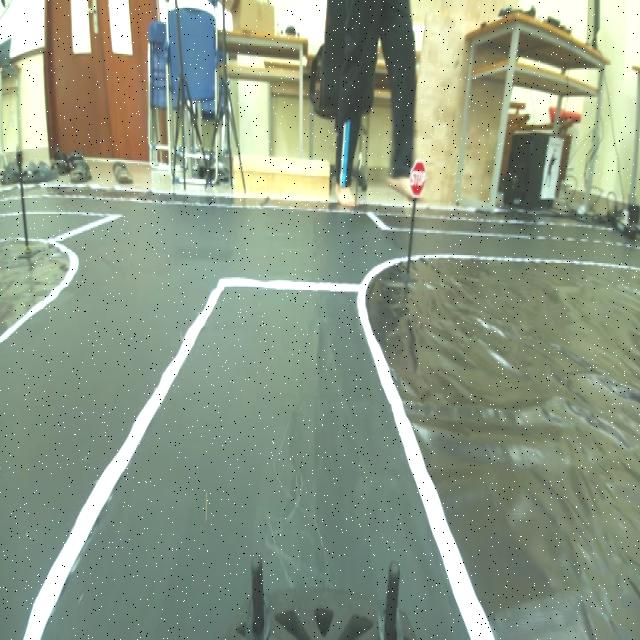stop: (409, 150, 430, 200)
